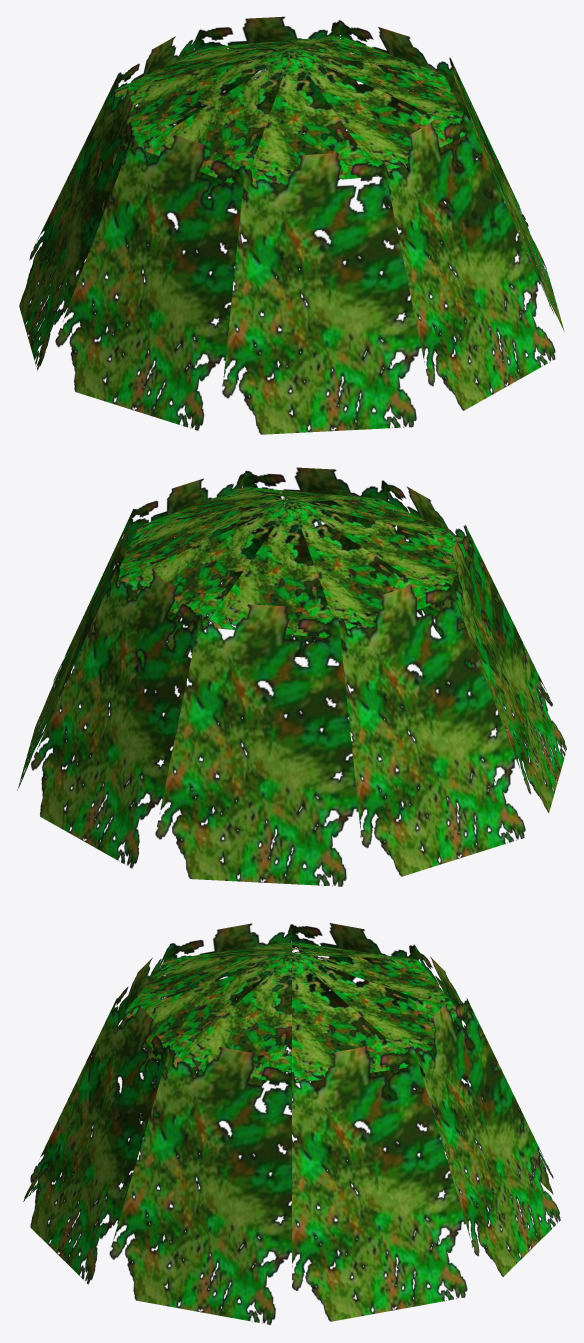
Rendered from bush3.glb.
3 views of the same model, one above another, from view 1: azimuth 30°, elevation 25°; view 2: azimuth 150°, elevation 25°; view 3: azimuth 270°, elevation 25° (orthographic). The views are drawn at different scales.
Visible parts, largest first — view 1: tree2; view 2: tree2; view 3: tree2.
Part boxes in pixels (x1,y1,x2,y2): tree2: (19,16,564,434); tree2: (17,467,566,886); tree2: (23,923,560,1324).
Bounding box in the file's own units: 1.1 × 0.5592 × 1.1.
Materials: 1 (1 with a texture image).
